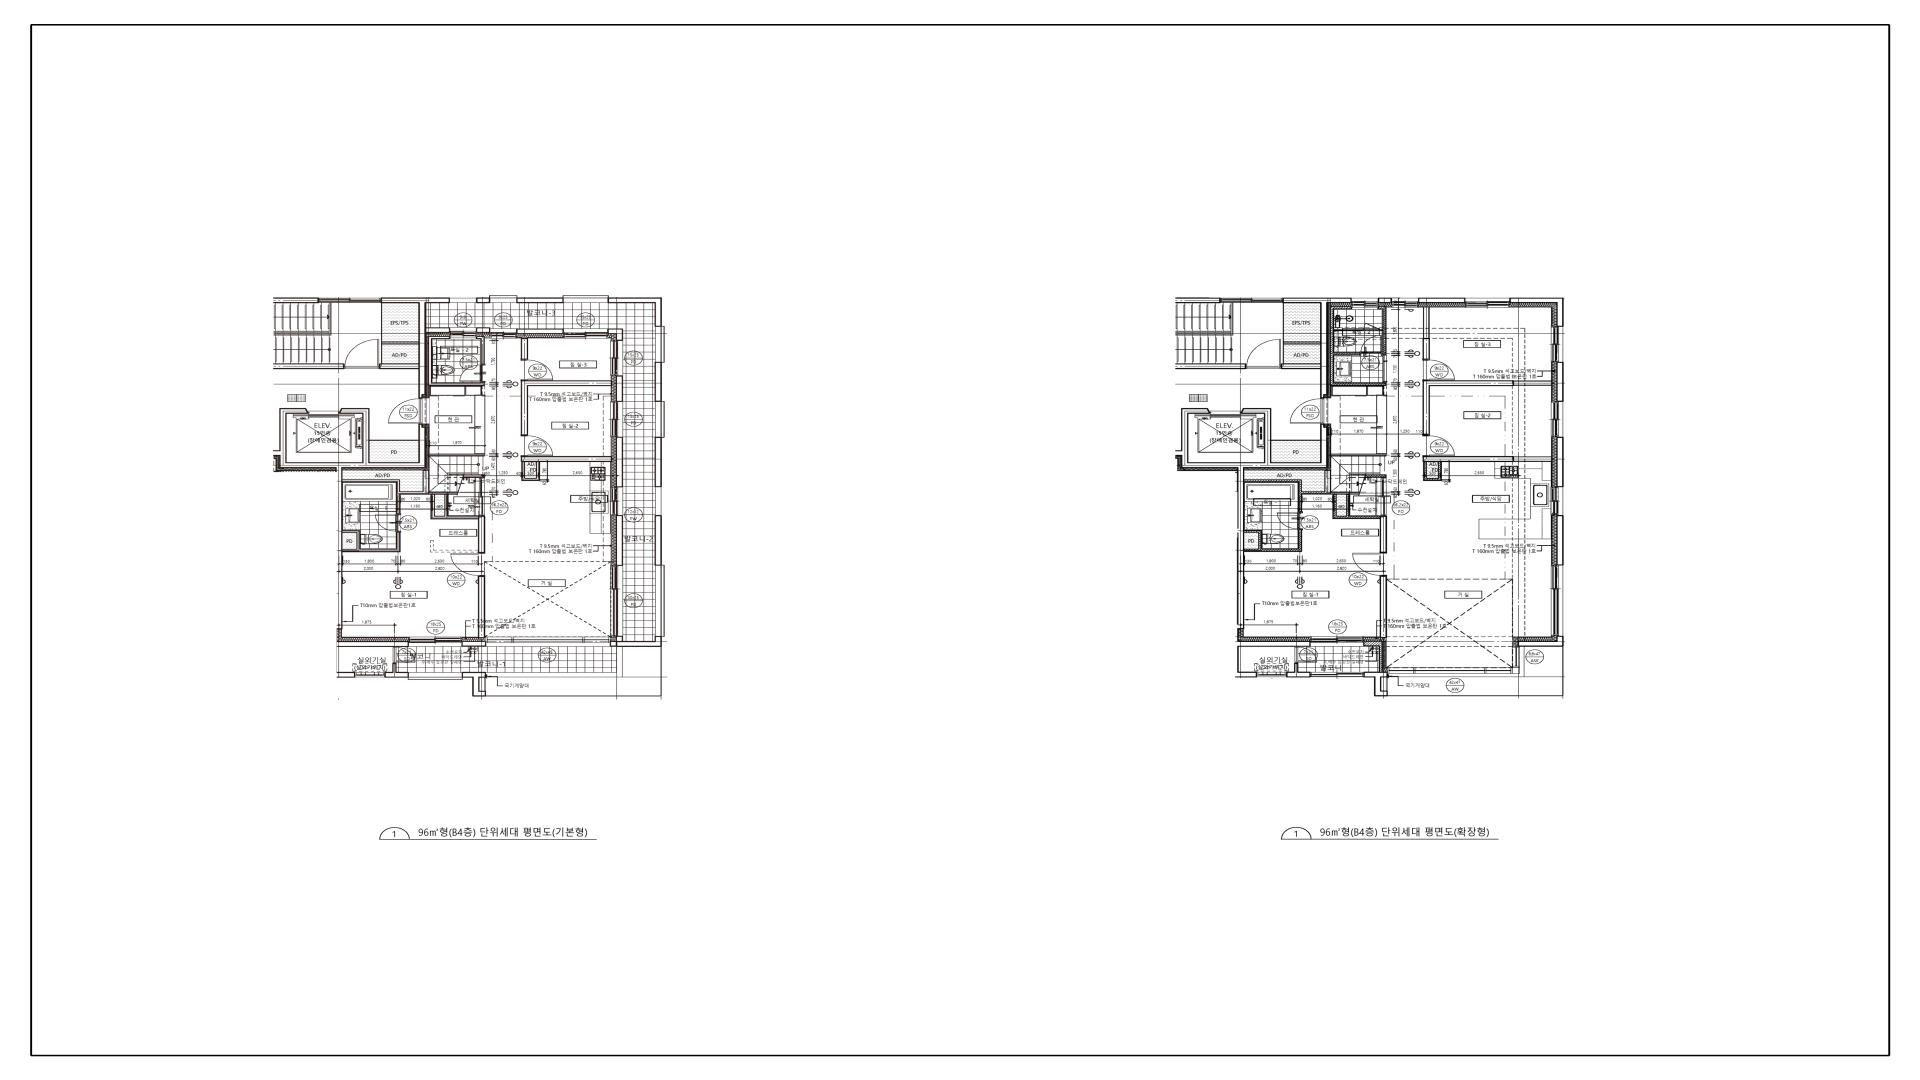door: (1246, 339, 1282, 369), (1290, 398, 1324, 425), (388, 398, 422, 423), (1353, 553, 1387, 576), (451, 553, 485, 575), (1423, 359, 1455, 381), (1423, 435, 1456, 456), (521, 360, 553, 381), (521, 435, 553, 456), (375, 513, 401, 533), (1276, 512, 1303, 531), (459, 364, 485, 382), (1360, 335, 1382, 356), (1295, 647, 1317, 663), (479, 477, 485, 516), (1382, 355, 1387, 382), (1364, 323, 1382, 331)
wall: (1175, 407, 1327, 678), (273, 407, 426, 629), (343, 471, 485, 553), (380, 298, 450, 398), (1283, 298, 1352, 398), (521, 380, 612, 435), (429, 336, 485, 386), (336, 641, 409, 678), (1510, 298, 1564, 327), (609, 298, 662, 326), (343, 530, 401, 553), (1423, 456, 1551, 462), (1429, 381, 1551, 386), (462, 673, 487, 696), (1364, 673, 1389, 696), (1379, 576, 1387, 638), (1518, 636, 1564, 646), (521, 456, 612, 462), (617, 637, 662, 647), (479, 575, 485, 638), (654, 516, 662, 566), (616, 436, 624, 487), (1556, 516, 1564, 566), (1556, 436, 1564, 487), (521, 462, 541, 481), (654, 438, 662, 487), (1175, 364, 1246, 369), (273, 364, 344, 369), (1286, 663, 1311, 678), (1423, 381, 1429, 435), (1423, 307, 1429, 360), (384, 663, 407, 678), (616, 516, 622, 566), (1556, 361, 1564, 402), (1331, 309, 1335, 386), (273, 297, 319, 303), (654, 363, 662, 401), (1379, 516, 1387, 553), (476, 336, 485, 364), (1418, 298, 1465, 303), (1382, 309, 1387, 355), (517, 298, 563, 303), (517, 328, 563, 334), (1175, 298, 1221, 303), (1280, 364, 1320, 369), (1335, 382, 1387, 386), (1245, 549, 1298, 553), (616, 376, 624, 401), (608, 328, 624, 340), (1324, 471, 1332, 492), (521, 339, 529, 360), (1337, 516, 1379, 520), (462, 641, 485, 647), (1331, 454, 1387, 456), (1245, 480, 1302, 483), (430, 454, 485, 456), (611, 636, 622, 647), (1332, 495, 1337, 520), (426, 327, 450, 332), (1298, 530, 1303, 553), (1298, 483, 1302, 512), (1379, 646, 1383, 673), (1364, 641, 1383, 646), (1283, 342, 1320, 344), (1437, 462, 1443, 479), (1346, 495, 1350, 516), (1302, 492, 1332, 495), (1283, 303, 1284, 364), (1423, 462, 1427, 481), (476, 298, 491, 303), (476, 327, 491, 332), (1378, 298, 1393, 303), (1332, 492, 1360, 495), (1258, 530, 1262, 549), (1335, 352, 1360, 355), (1271, 439, 1320, 440), (1365, 475, 1386, 477), (1331, 306, 1352, 309), (1513, 667, 1520, 674), (1427, 479, 1443, 481), (1335, 330, 1364, 331), (1378, 306, 1387, 310), (1245, 530, 1258, 533), (1385, 386, 1387, 396)
window: (487, 647, 622, 678), (485, 637, 611, 647), (611, 566, 624, 636), (1551, 566, 1563, 636), (1387, 667, 1513, 674), (655, 564, 665, 637), (409, 637, 462, 647), (611, 401, 624, 438), (1311, 637, 1364, 646), (563, 328, 608, 339), (611, 340, 624, 376), (407, 673, 462, 680), (1551, 402, 1563, 438), (1465, 298, 1510, 307), (1551, 327, 1563, 361), (563, 295, 609, 303), (1551, 487, 1563, 516), (611, 487, 622, 516), (655, 401, 665, 438), (655, 326, 665, 363), (1221, 298, 1283, 303), (319, 298, 381, 303), (450, 327, 476, 338), (491, 328, 517, 339), (1311, 673, 1364, 678), (1381, 477, 1387, 516), (1352, 298, 1378, 307), (1393, 298, 1419, 307), (491, 295, 517, 303), (655, 487, 662, 516), (355, 673, 385, 678), (1257, 673, 1286, 678), (450, 298, 476, 303), (1513, 646, 1519, 667)
